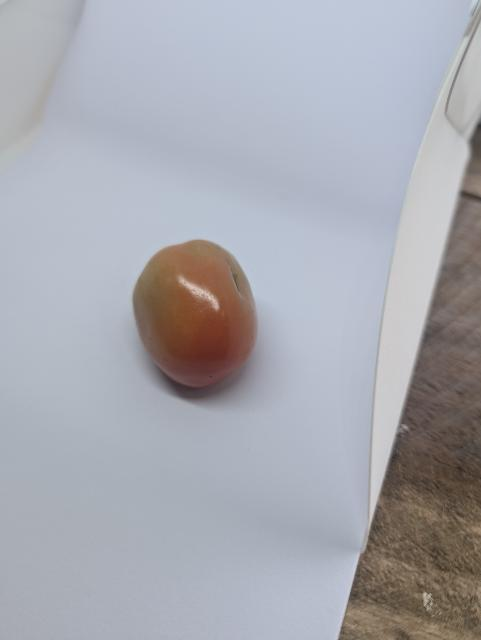turning: (129, 238, 262, 394)
